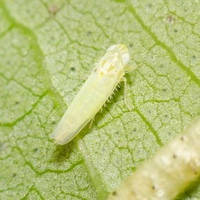insect: (50, 44, 129, 144)
